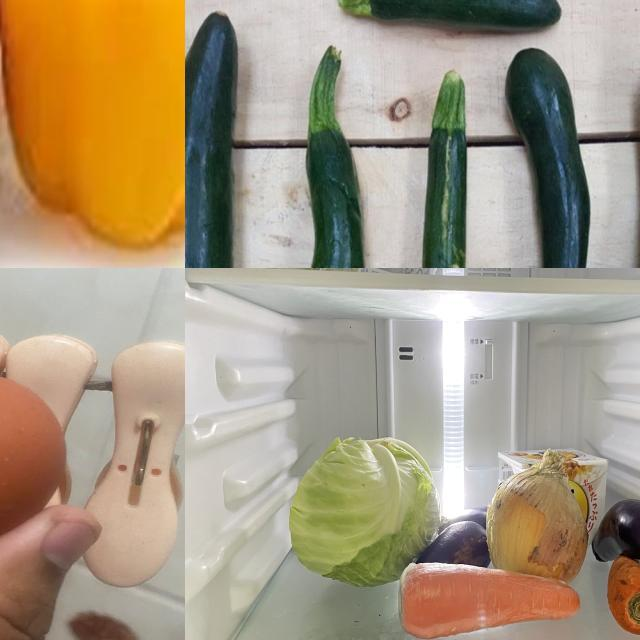bell_pepper: (1, 1, 186, 253)
cabbage: (293, 444, 440, 591)
carrot: (399, 560, 580, 638), (610, 556, 640, 635)
egg: (1, 372, 73, 572)
eggplant: (416, 519, 490, 572), (594, 496, 640, 566), (434, 506, 491, 542)
onion: (487, 456, 589, 592)
zucchini: (186, 16, 290, 269)
